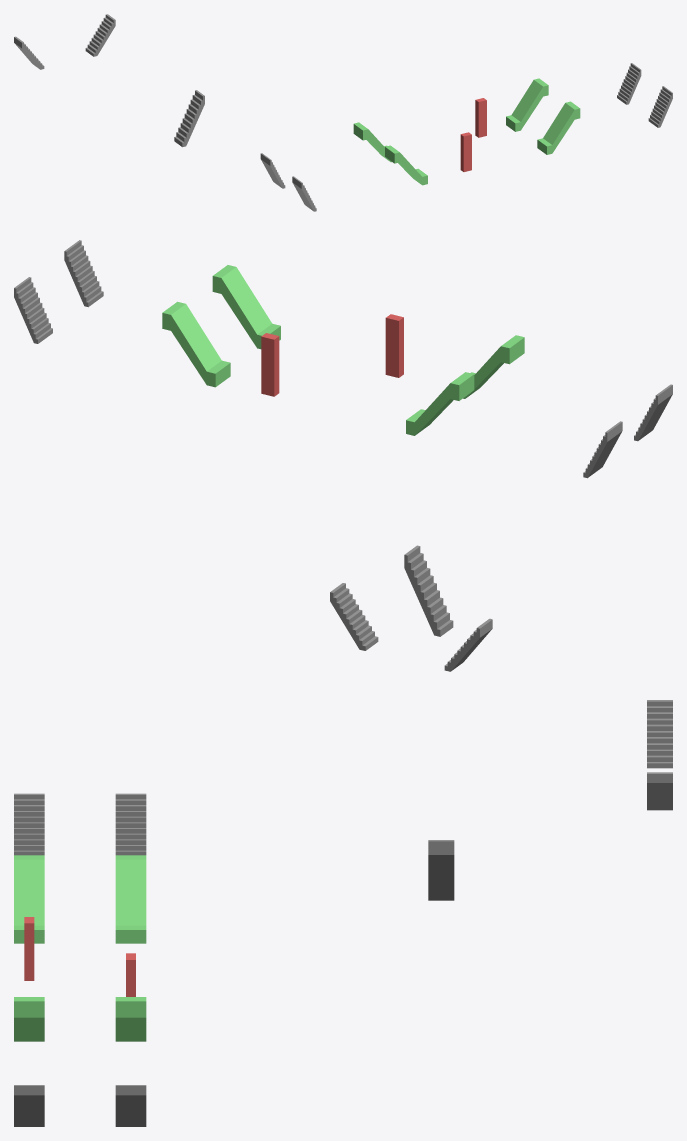
3 views of the same model, one above another, from view 1: azimuth 30°, elevation 25°; view 2: azimuth 150°, elevation 25°; view 3: azimuth 270°, elevation 25° (orthographic). The views are drawn at different scales.
Visible parts, largest first — view 1: エスカレーター.003, エスカレーター.004, 階段.012, 階段.030, エスカレーター.002, 階段.005, 階段.003, エレベーター.007, エレベーター.006, エスカレーター.005, 階段.004, 階段.002 (+1 smaller); view 2: エスカレーター.004, エスカレーター.003, 階段.012, 階段.030, エスカレーター.005, 階段.003, 階段.005, エレベーター.006, エレベーター.007, エスカレーター.002, 階段.004, 階段.002 (+1 smaller); view 3: エスカレーター.005, エスカレーター.002, 階段.004, 階段.002, 階段.029, 階段.012, エスカレーター.004, エスカレーター.003, 階段.005, 階段.003, 階段.030, エレベーター.007.
Part boxes in pixels (x1=…): エスカレーター.003: x1=537, y1=101, x2=580, y2=154; エスカレーター.004: x1=506, y1=78, x2=548, y2=131; 階段.012: x1=174, y1=90, x2=204, y2=147; 階段.030: x1=85, y1=14, x2=115, y2=56; エスカレーター.002: x1=385, y1=145, x2=427, y2=185; 階段.005: x1=617, y1=63, x2=641, y2=104; 階段.003: x1=648, y1=86, x2=672, y2=127; エレベーター.007: x1=460, y1=132, x2=471, y2=171; エレベーター.006: x1=475, y1=98, x2=486, y2=137; エスカレーター.005: x1=353, y1=122, x2=391, y2=162; 階段.004: x1=260, y1=153, x2=285, y2=188; 階段.002: x1=292, y1=176, x2=316, y2=211; エスカレーター.004: x1=162, y1=301, x2=230, y2=387; エスカレーター.003: x1=212, y1=265, x2=280, y2=349; 階段.012: x1=404, y1=545, x2=453, y2=636; 階段.030: x1=330, y1=583, x2=378, y2=650; エスカレーター.005: x1=406, y1=372, x2=474, y2=435; 階段.003: x1=64, y1=240, x2=103, y2=307; 階段.005: x1=14, y1=277, x2=52, y2=343; エレベーター.006: x1=261, y1=333, x2=279, y2=396; エレベーター.007: x1=385, y1=314, x2=403, y2=377; エスカレーター.002: x1=463, y1=335, x2=524, y2=398; 階段.004: x1=583, y1=421, x2=622, y2=478; 階段.002: x1=634, y1=384, x2=672, y2=441; エスカレーター.005: x1=115, y1=855, x2=146, y2=943; エスカレーター.002: x1=14, y1=855, x2=44, y2=943; 階段.004: x1=115, y1=793, x2=146, y2=855; 階段.002: x1=14, y1=793, x2=44, y2=855; 階段.029: x1=647, y1=700, x2=672, y2=768; 階段.012: x1=428, y1=840, x2=454, y2=900; エスカレーター.004: x1=115, y1=997, x2=146, y2=1041; エスカレーター.003: x1=14, y1=997, x2=44, y2=1041; 階段.005: x1=115, y1=1085, x2=146, y2=1126; 階段.003: x1=14, y1=1085, x2=44, y2=1126; 階段.030: x1=647, y1=772, x2=672, y2=810; エレベーター.007: x1=24, y1=917, x2=34, y2=980.
Bounding box in the file's own units: 167 × 27.06 × 130.
